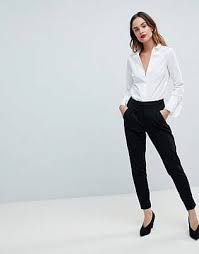F_shirt: (113, 44, 189, 117)
S_W_pants: (118, 96, 197, 209)
